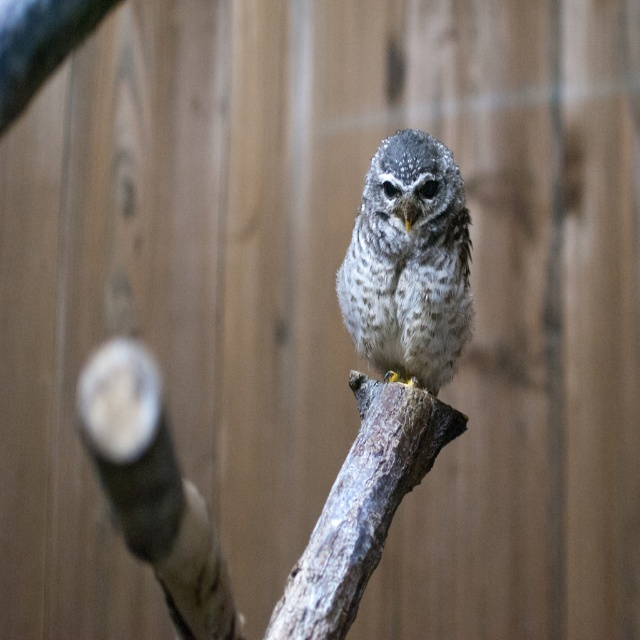Owl: (332, 126, 478, 395)
